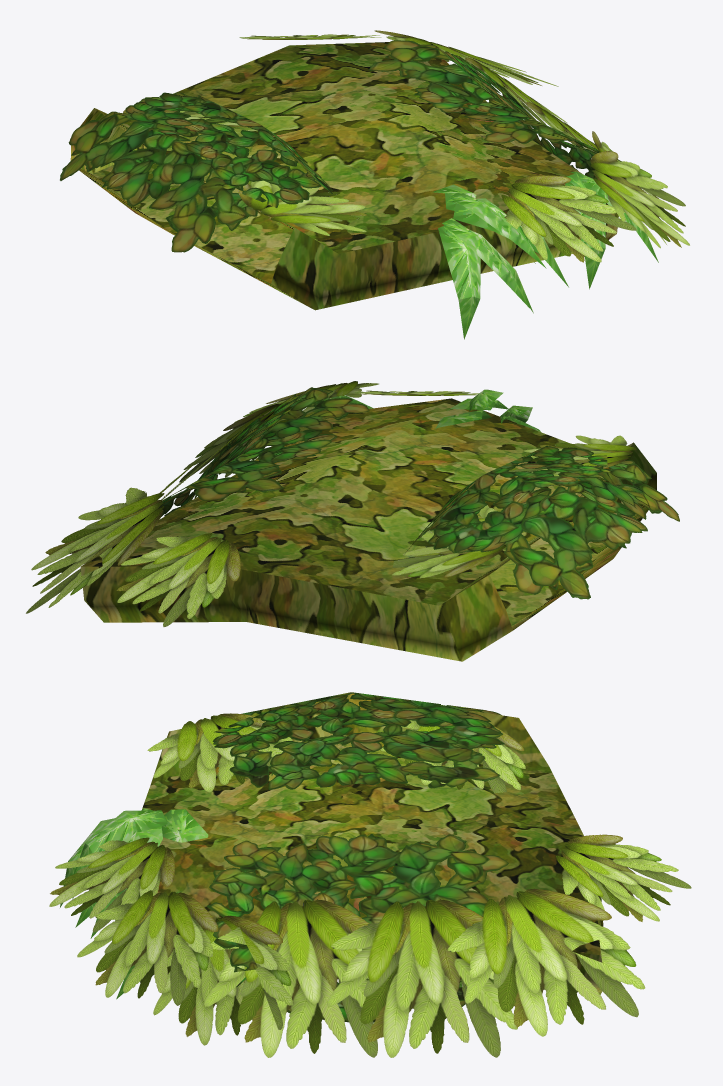
Rendered from plataforma.fbx.
3 views of the same model, one above another, from view 1: azimuth 30°, elevation 25°; view 2: azimuth 150°, elevation 25°; view 3: azimuth 270°, elevation 25° (orthographic).
Parts seen in each view (by area): view 1: polySurface55; view 2: polySurface55; view 3: polySurface55.
Boxes of the visible parts, x1,y1,x2,y2 form: polySurface55: [60, 30, 689, 339]; polySurface55: [26, 381, 679, 661]; polySurface55: [49, 692, 691, 1057].
Size of the model in its own units: 24.7 by 6.88 by 26.07.
